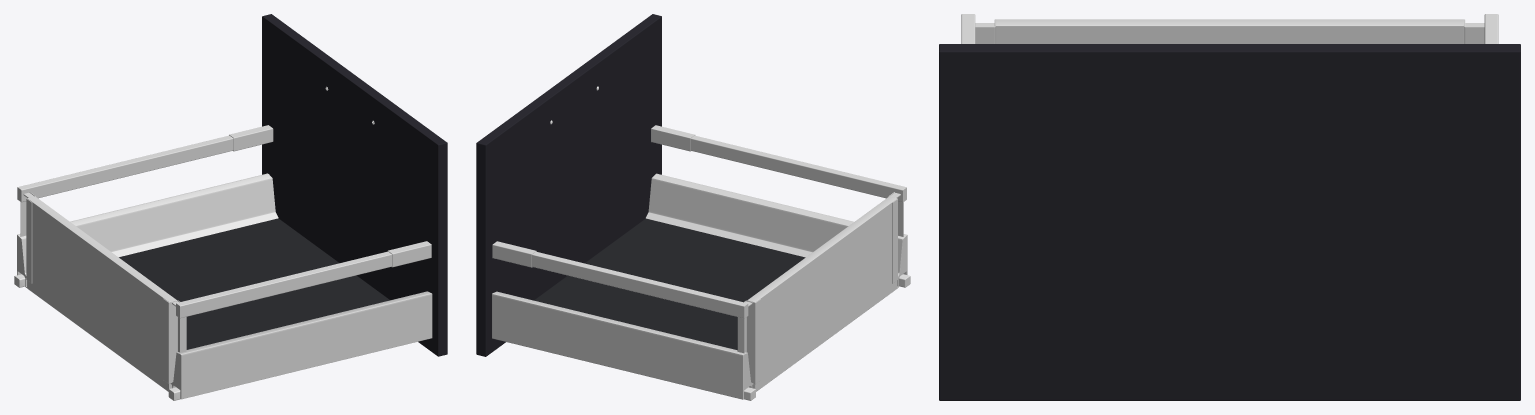
The model's file is Kitchen09Drawer03.fbx.
3 renders of one model, left to right at view 1: azimuth 30°, elevation 25°; view 2: azimuth 150°, elevation 25°; view 3: azimuth 270°, elevation 25°, orthographic. The views are drawn at different scales.
Parts seen in each view (by area): view 1: Kitchen09Drawer03; view 2: Kitchen09Drawer03; view 3: Kitchen09Drawer03.
Part boxes in pixels (x1,y1,x2,y2): Kitchen09Drawer03: (14, 14, 447, 400); Kitchen09Drawer03: (476, 14, 910, 400); Kitchen09Drawer03: (939, 14, 1520, 400).
Size of what is drawn, in the model's own units: 51.99 by 59.69 by 39.6.
4 materials, 1 textured.
